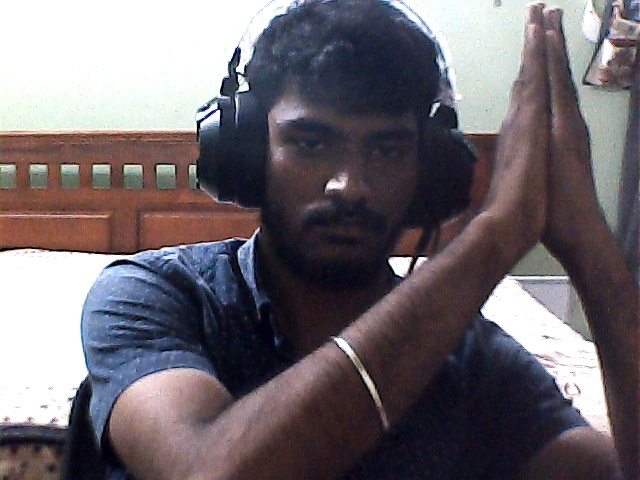Sign: (496, 4, 609, 277)
